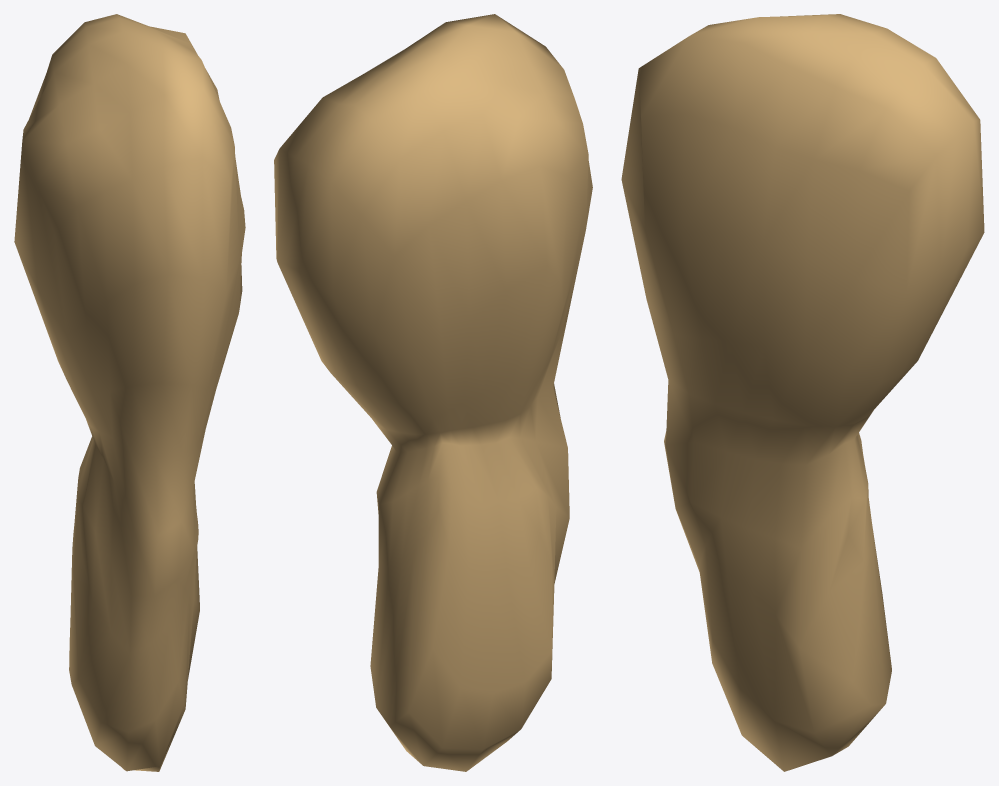
File: haltere_right_lower.obj
3 renders of one model, left to right at view 1: azimuth 30°, elevation 25°; view 2: azimuth 150°, elevation 25°; view 3: azimuth 270°, elevation 25°, orthographic. The views are drawn at different scales.
Bounding box in the file's own units: 0.0101 × 0.0299 × 0.0131.
